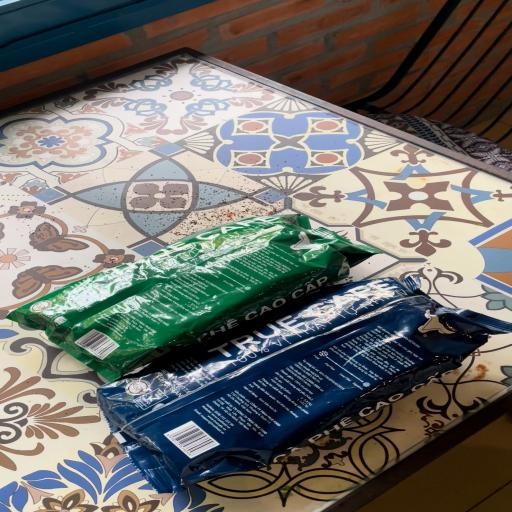cafe_hat: (97, 276, 512, 493)
cafe_xay: (8, 213, 379, 381)
